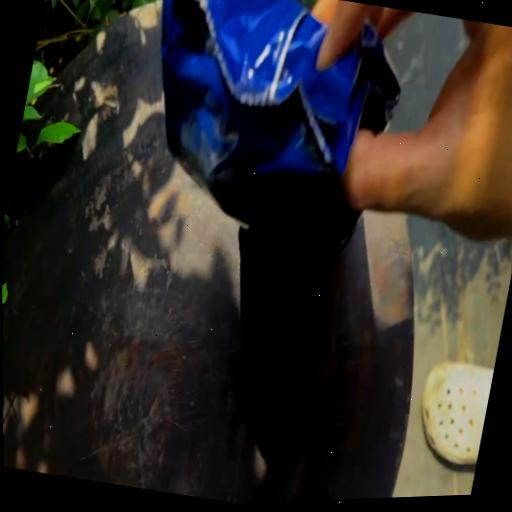cafe_hat: (162, 0, 399, 244)
